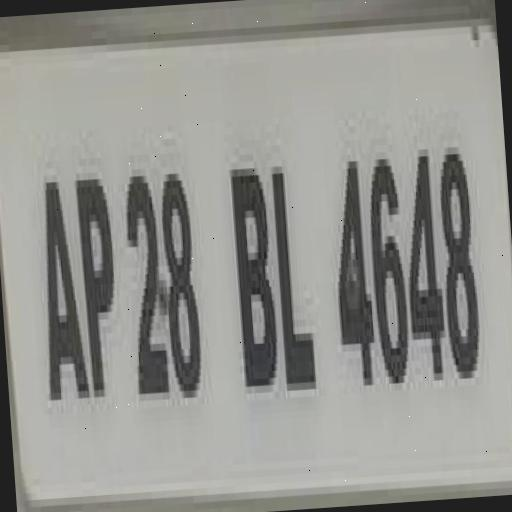number plate: (0, 12, 501, 512)
